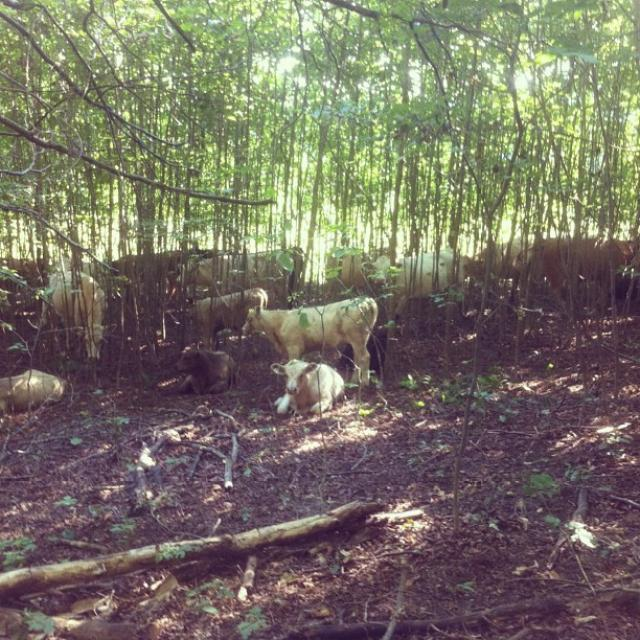cow: (241, 294, 378, 383), (514, 236, 639, 309), (175, 248, 296, 305), (48, 272, 114, 360), (358, 244, 463, 297), (182, 287, 270, 345), (269, 361, 344, 413), (172, 343, 238, 395), (0, 366, 64, 414), (493, 235, 523, 278)
